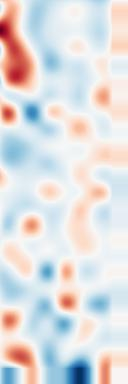filament: (0, 19, 41, 96)
